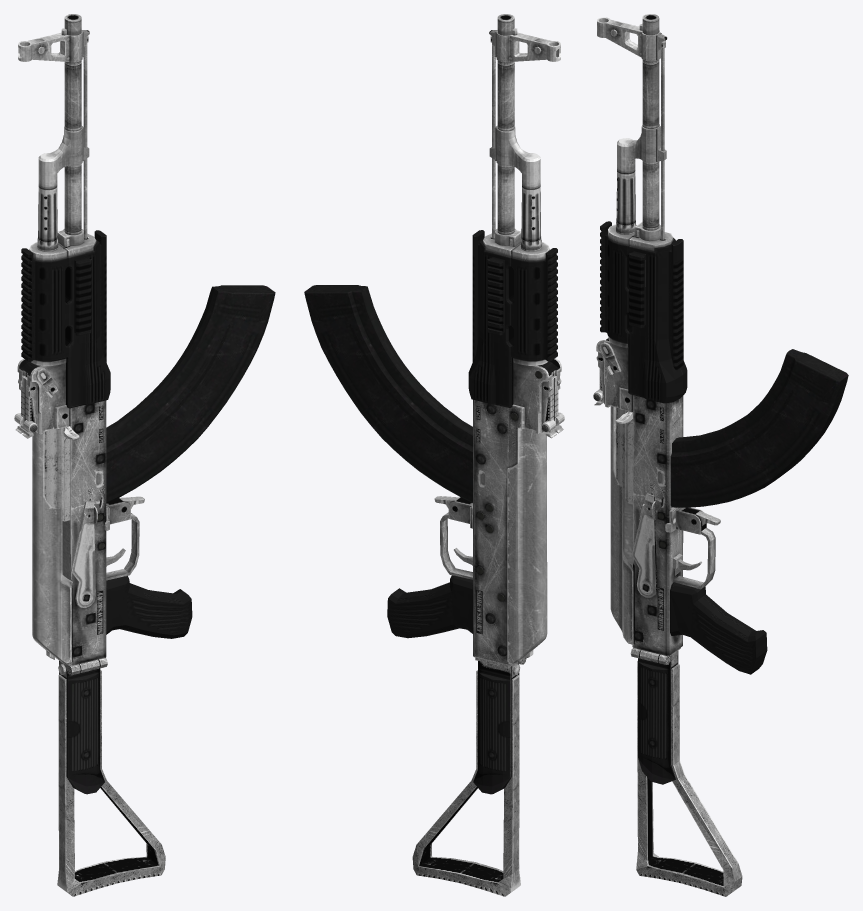
Rendered from w_rifle.glb.
3 views of the same model, side by side, from view 1: azimuth 30°, elevation 25°; view 2: azimuth 150°, elevation 25°; view 3: azimuth 330°, elevation 25° (orthographic). The views are drawn at different scales.
Parts seen in each view (by area): view 1: assaultrifle_0; view 2: assaultrifle_0; view 3: assaultrifle_0.
Boxes of the visible parts, x1=… form: assaultrifle_0: x1=14, y1=14, x2=275, y2=896; assaultrifle_0: x1=304, y1=14, x2=564, y2=896; assaultrifle_0: x1=593, y1=14, x2=848, y2=896.
Bounding box in the file's own units: 0.2658 × 0.88 × 0.0587.
6 materials, 6 textured.
